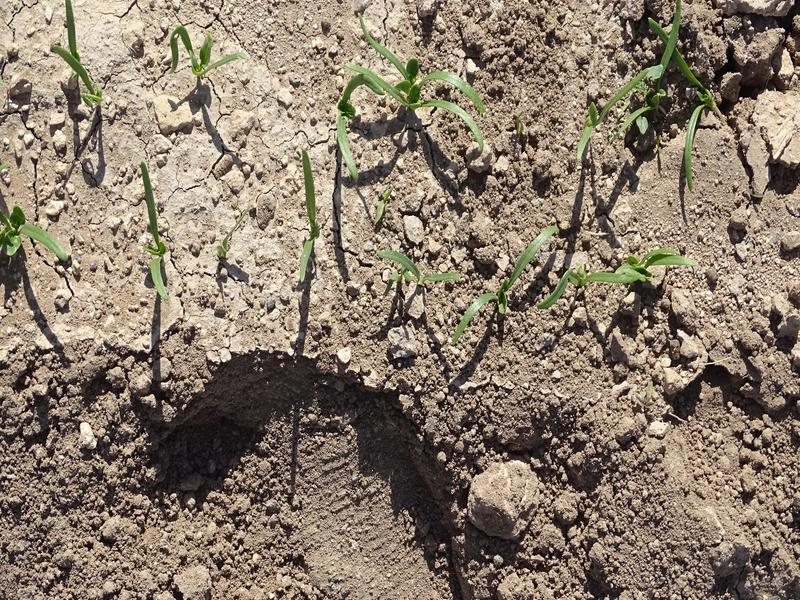Espinaca: (581, 15, 718, 182), (333, 34, 485, 135), (553, 250, 684, 310), (331, 131, 392, 227), (51, 4, 107, 108), (135, 163, 168, 296), (164, 25, 248, 75), (383, 250, 472, 294), (1, 208, 72, 263), (296, 148, 320, 280)
